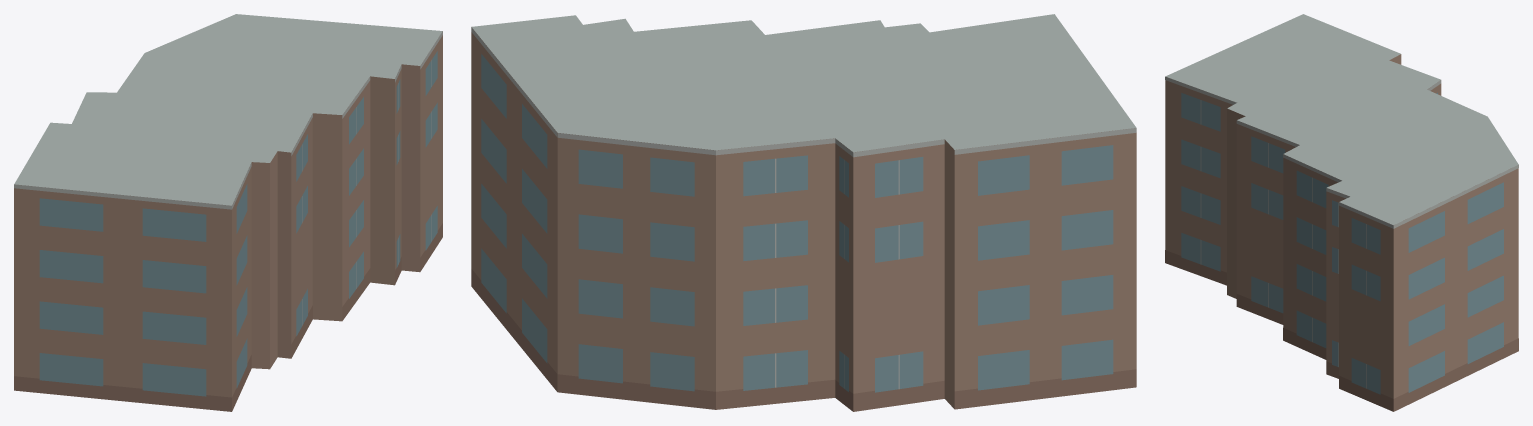
File: survey-upis-32912838.glb
3 views of the same model, side by side, from view 1: azimuth 30°, elevation 25°; view 2: azimuth 150°, elevation 25°; view 3: azimuth 270°, elevation 25° (orthographic). The views are drawn at different scales.
Parts seen in each view (by area): view 1: survey-upis-32912838.tmp; view 2: survey-upis-32912838.tmp; view 3: survey-upis-32912838.tmp.
Boxes of the visible parts, x1=… form: survey-upis-32912838.tmp: x1=14, y1=14, x2=442, y2=411; survey-upis-32912838.tmp: x1=471, y1=14, x2=1136, y2=411; survey-upis-32912838.tmp: x1=1165, y1=14, x2=1518, y2=411.
Bounding box in the file's own units: 31.1 × 12.8 × 22.
